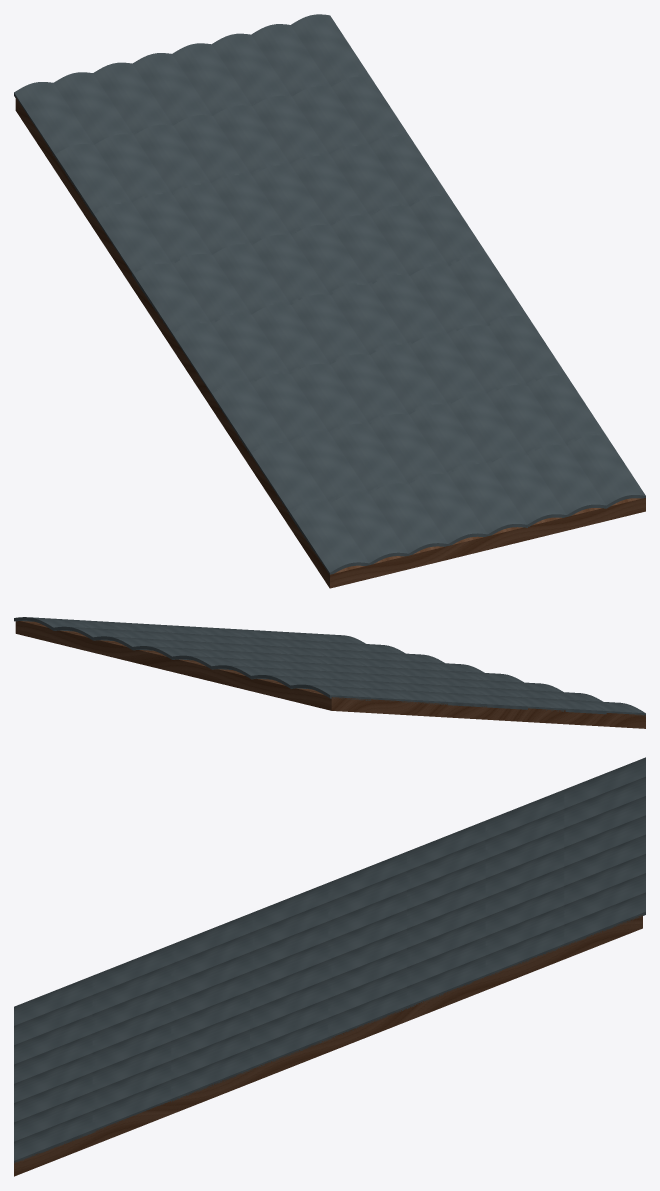
File: roof_slope.glb
3 views of the same model, one above another, from view 1: azimuth 30°, elevation 25°; view 2: azimuth 150°, elevation 25°; view 3: azimuth 270°, elevation 25° (orthographic).
Parts seen in each view (by area): view 1: roof_slope; view 2: roof_slope; view 3: roof_slope.
Boxes of the visible parts, box(x1,y1,x2,y2) form: roof_slope: box(14, 14, 645, 588); roof_slope: box(14, 617, 645, 728); roof_slope: box(14, 757, 645, 1176).
Bounding box in the file's own units: 1.8 × 1.47 × 3.12.
Materials: 2 (2 with a texture image).
